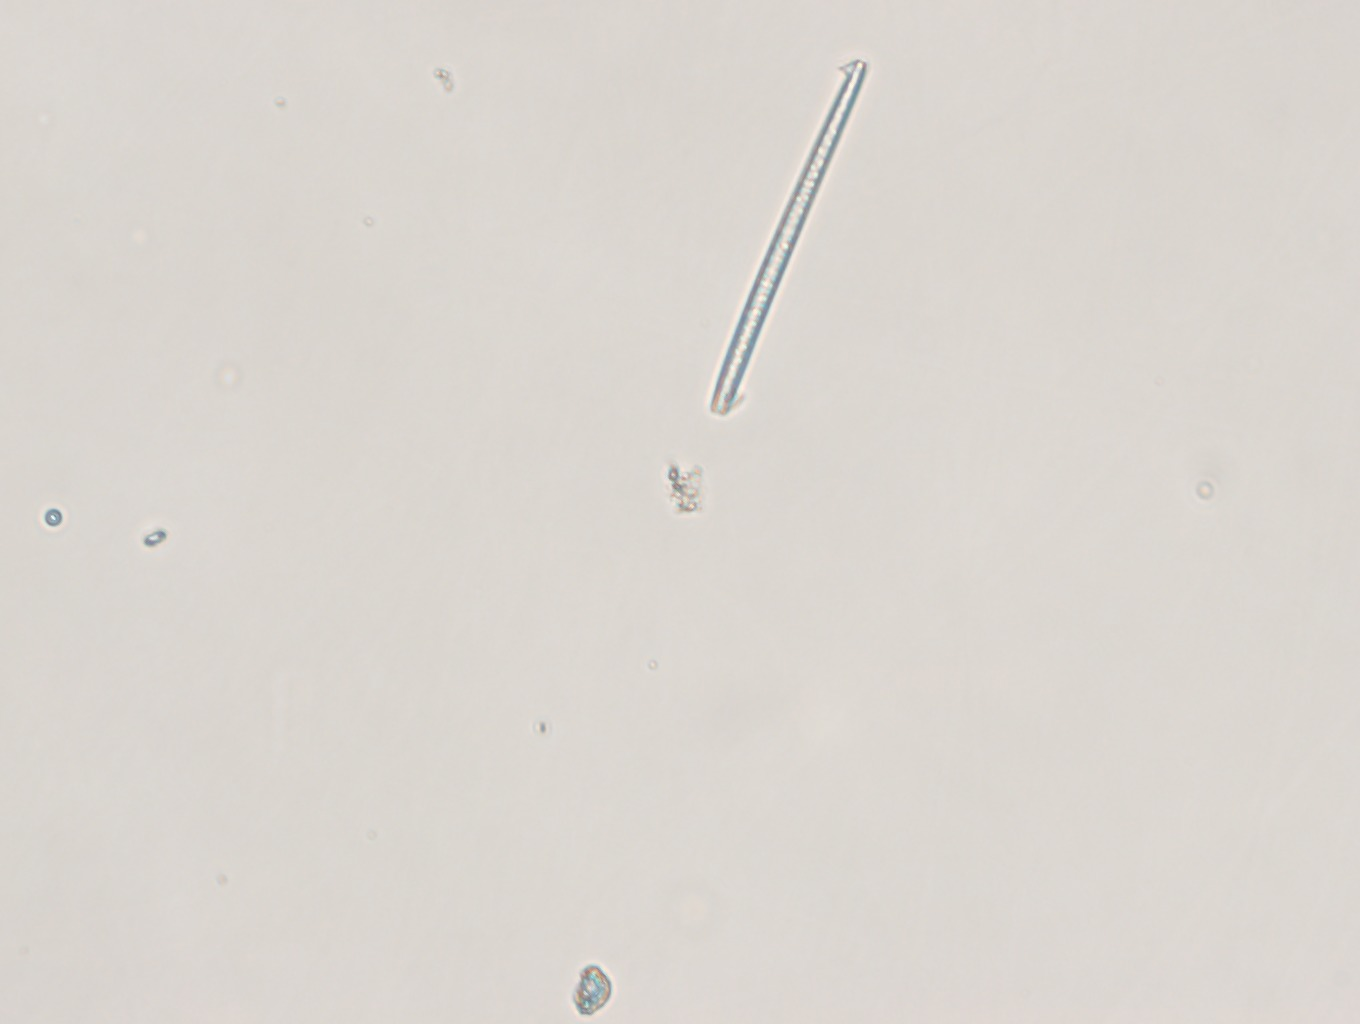ceratium fusus: (707, 47, 879, 426)
